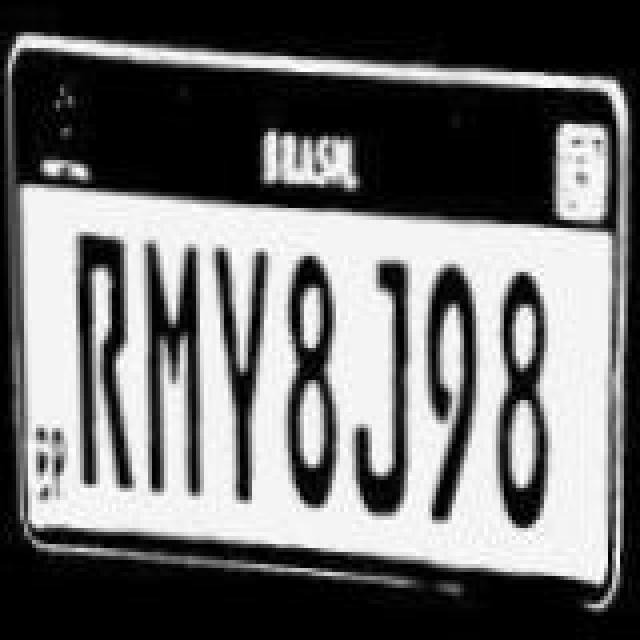8: (490, 266, 558, 530), (284, 250, 344, 510)
9: (414, 266, 482, 526)
J: (342, 256, 418, 520)
M: (136, 236, 212, 500)
R: (70, 226, 142, 490)
Y: (210, 240, 274, 512)
